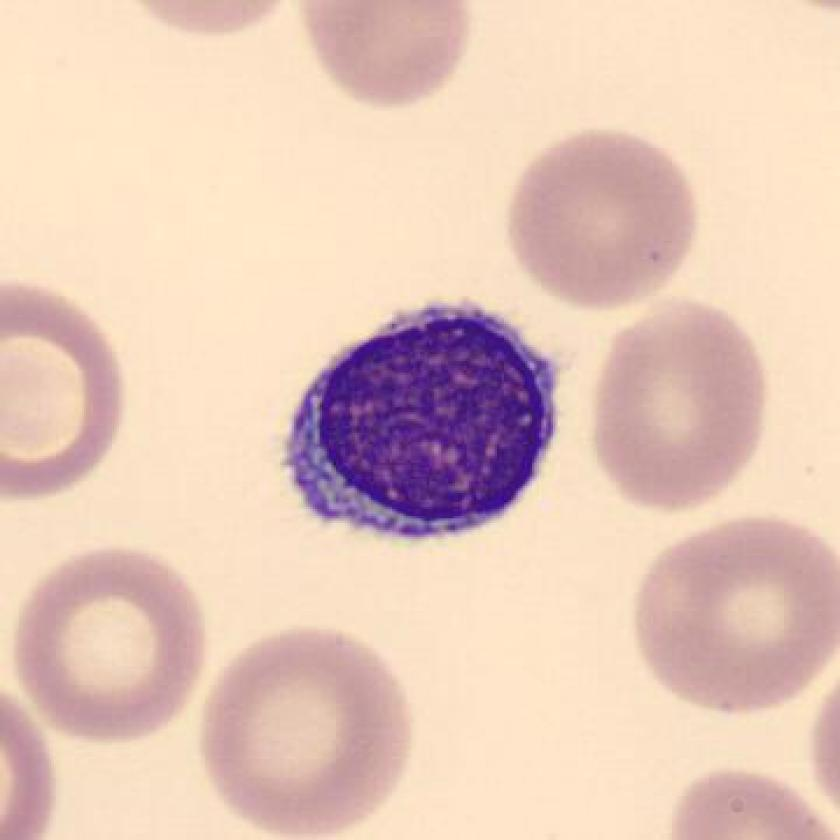lymphocyte: (267, 283, 582, 575)
